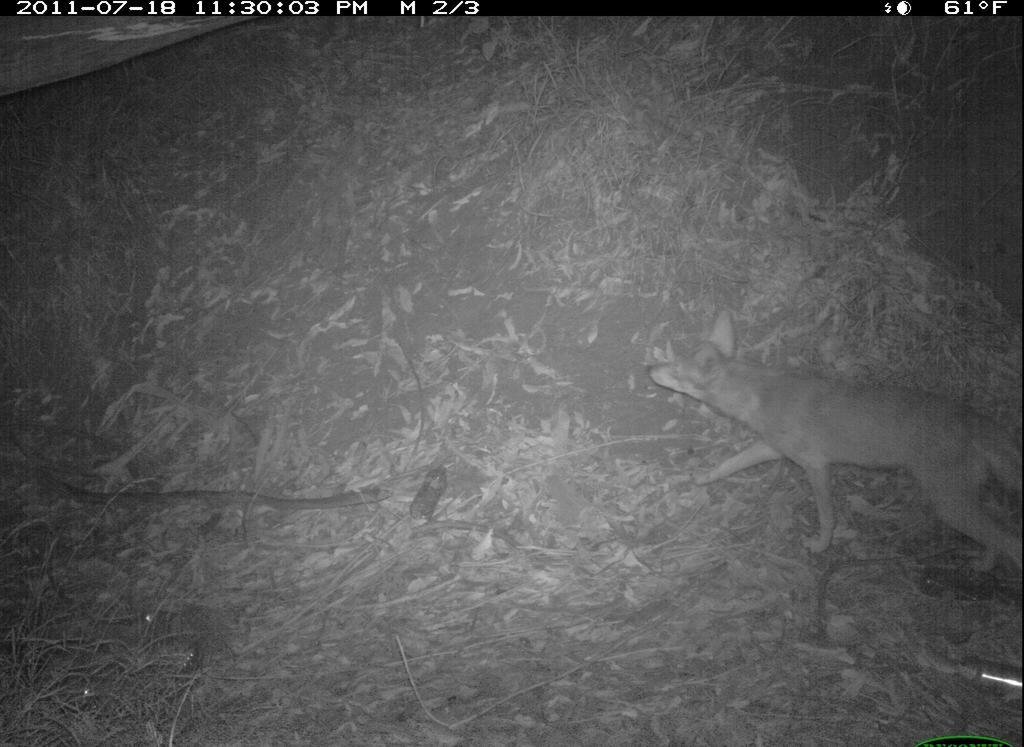coyote: (646, 309, 1023, 575)
